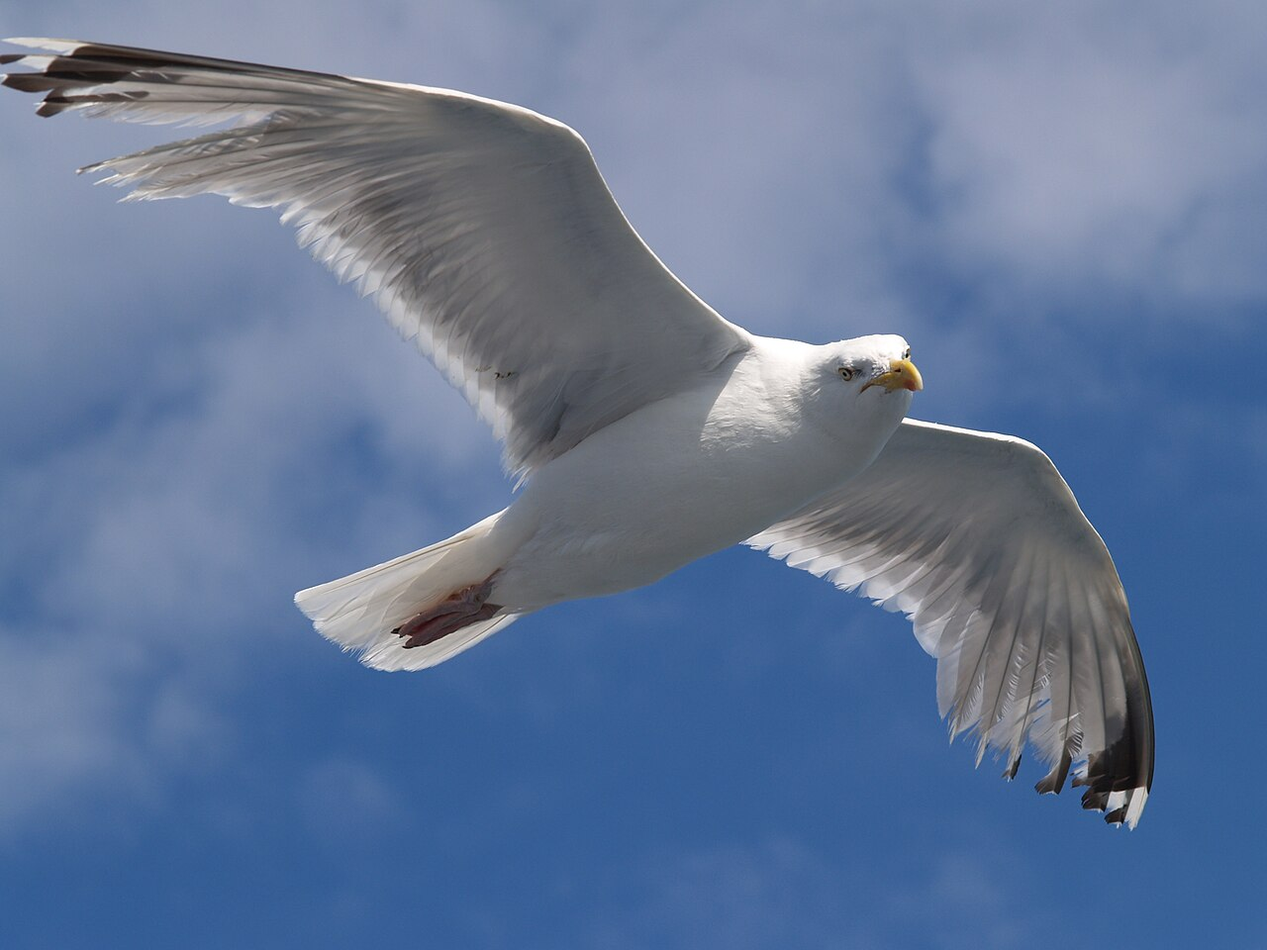bird: (0, 36, 1157, 831)
